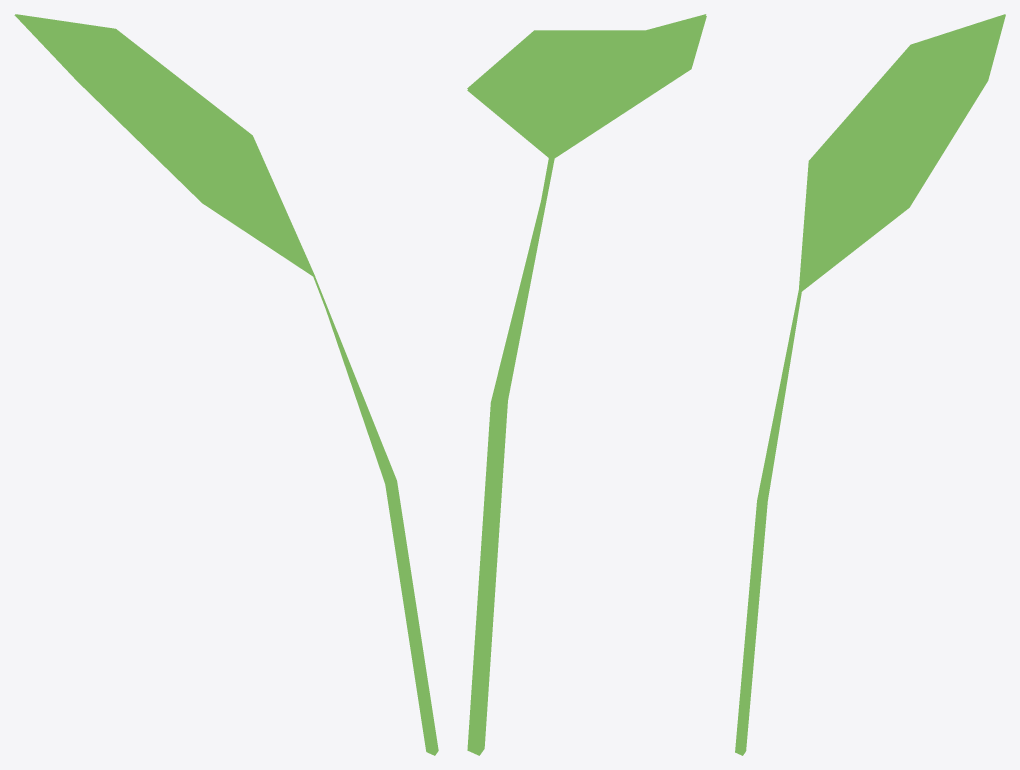
Rendered from Plant_j_TwoS_01.fbx.
3 views of the same model, side by side, from view 1: azimuth 30°, elevation 25°; view 2: azimuth 150°, elevation 25°; view 3: azimuth 270°, elevation 25° (orthographic). The views are drawn at different scales.
Visible parts, largest first — view 1: Plant_j_TwoS_01; view 2: Plant_j_TwoS_01; view 3: Plant_j_TwoS_01.
Boxes of the visible parts, x1,y1,x2,y2 form: Plant_j_TwoS_01: (14, 14, 438, 755); Plant_j_TwoS_01: (467, 14, 706, 755); Plant_j_TwoS_01: (735, 14, 1005, 755).
Bounding box in the file's own units: 0.2337 × 0.5615 × 0.2219.
